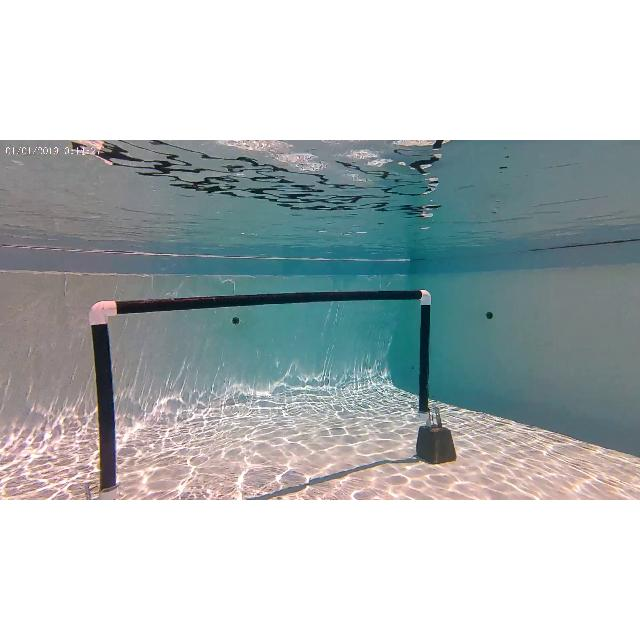prequal gate: (89, 290, 431, 500)
prequal gate leg l: (90, 288, 126, 500)
prequal gate leg r: (415, 286, 439, 429)
